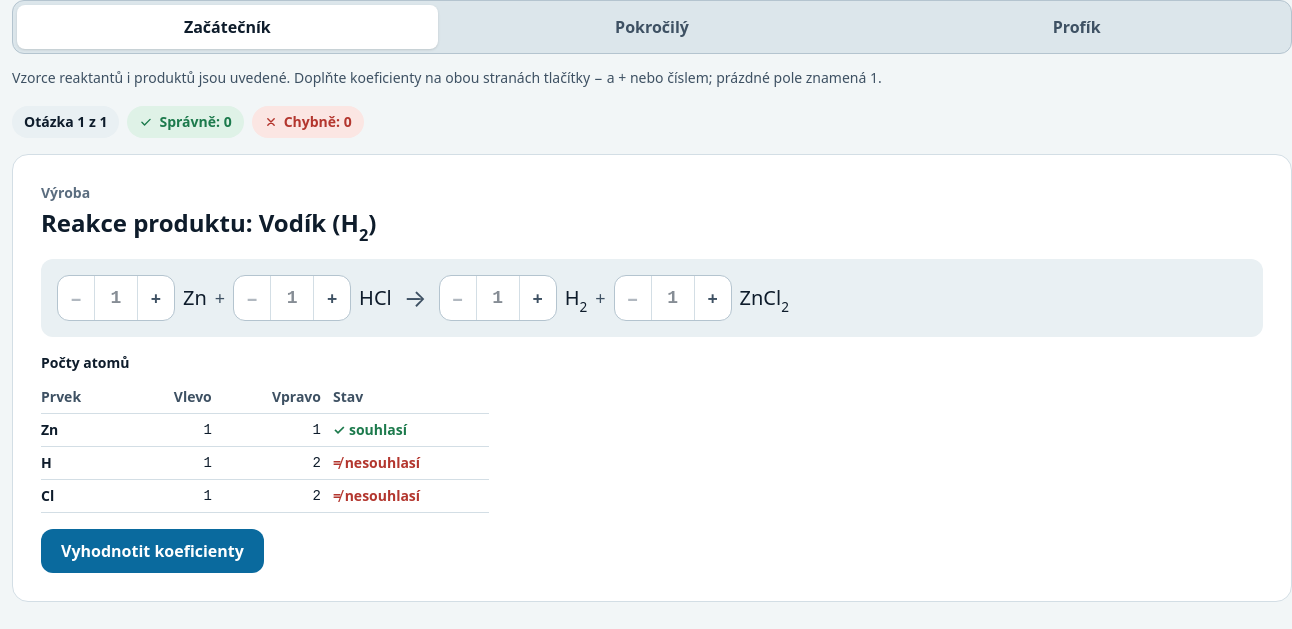
Test: reaction equation practice › shows atom counts after a wrong beginner answer and saves the retry
Click the button "Vyhodnotit koeficienty". click: (152, 551)
box: [41,529,264,573]
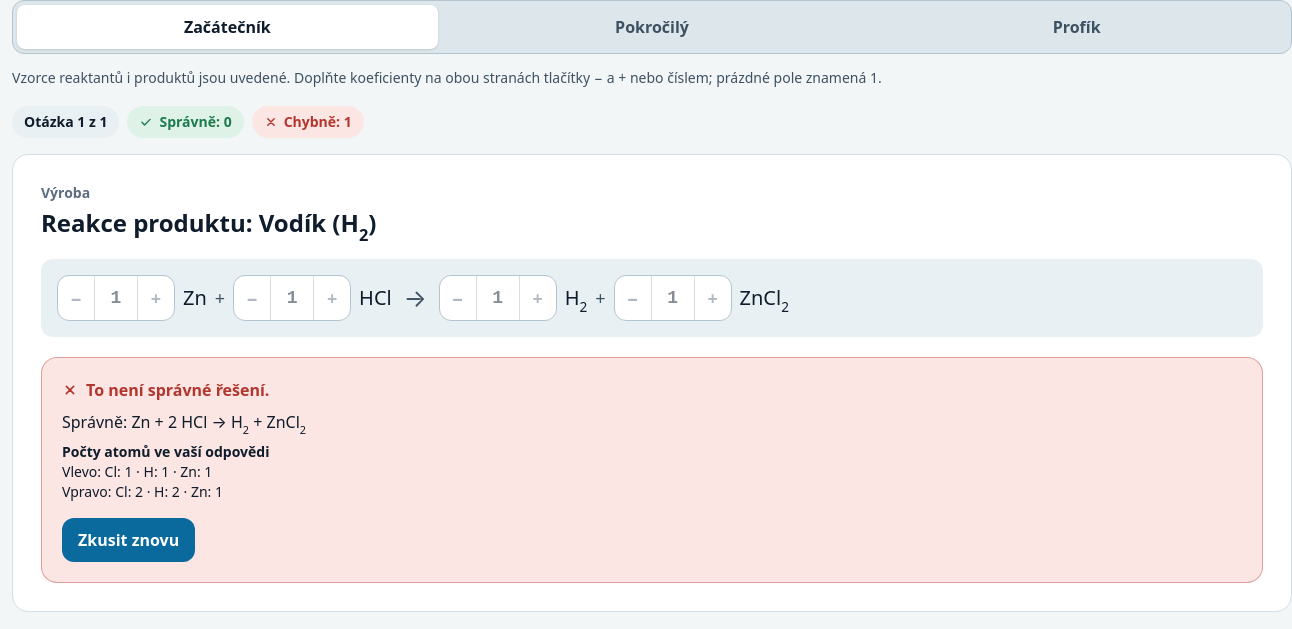
Now the text "To není správné řešení." is shown, box [86,378,269,402]
Now the text "Počty atomů ve vaší odpovědi" is shown, box [62,442,270,461]
Now the text "Vlevo: Cl: 1 · H: 1 · Zn: 1" is shown, box [62,462,212,481]
Click the button "Zkusit znovu". click: (129, 540)
box: [62,518,195,562]
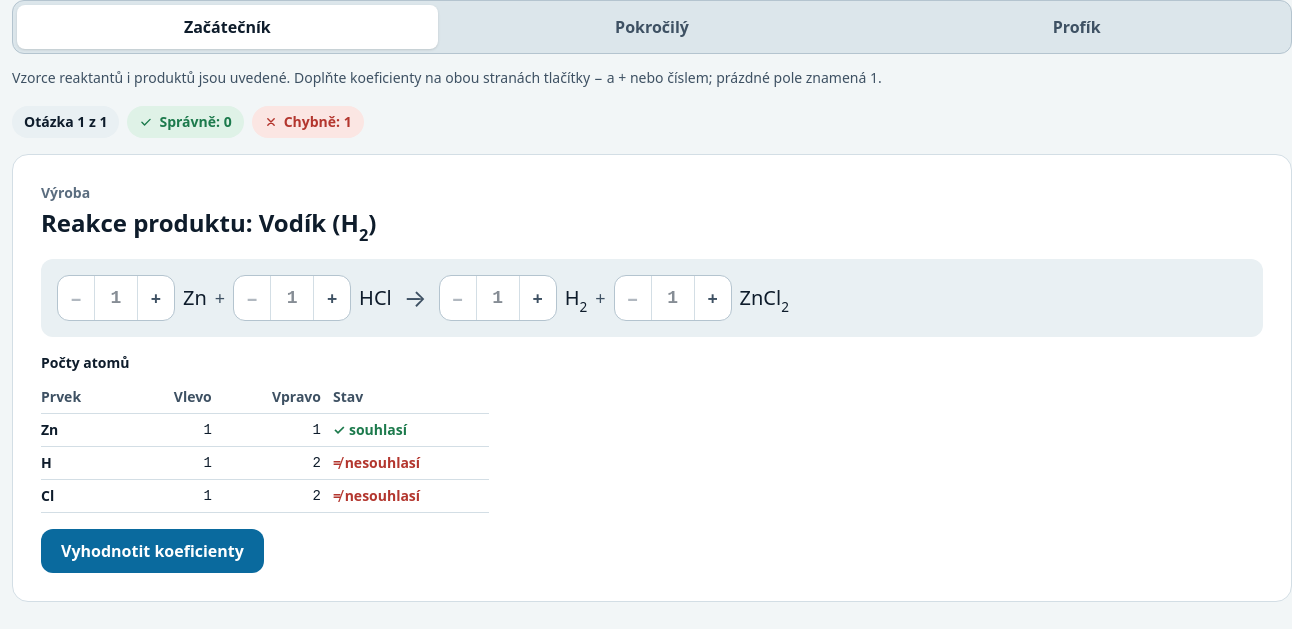
Type "2" into the field named "Koeficient reaktant HCl". click: (292, 298)
box: [270,276,314,320]
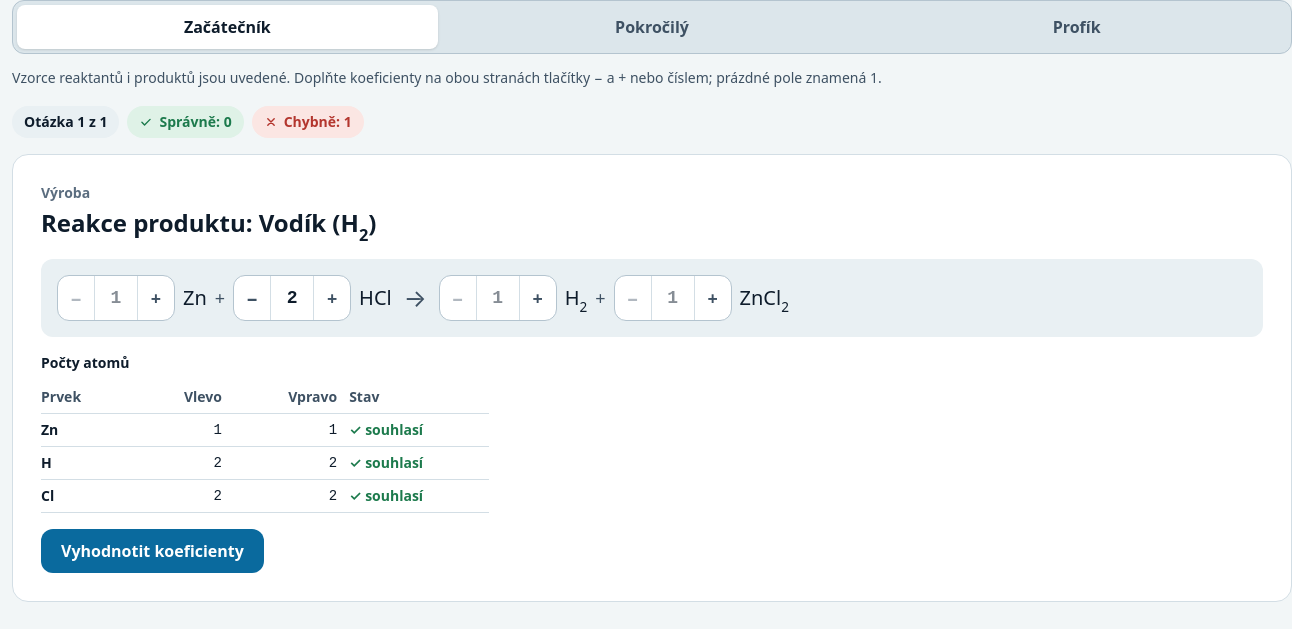
Click the button "Vyhodnotit koeficienty". click: (152, 551)
box: [41,529,264,573]
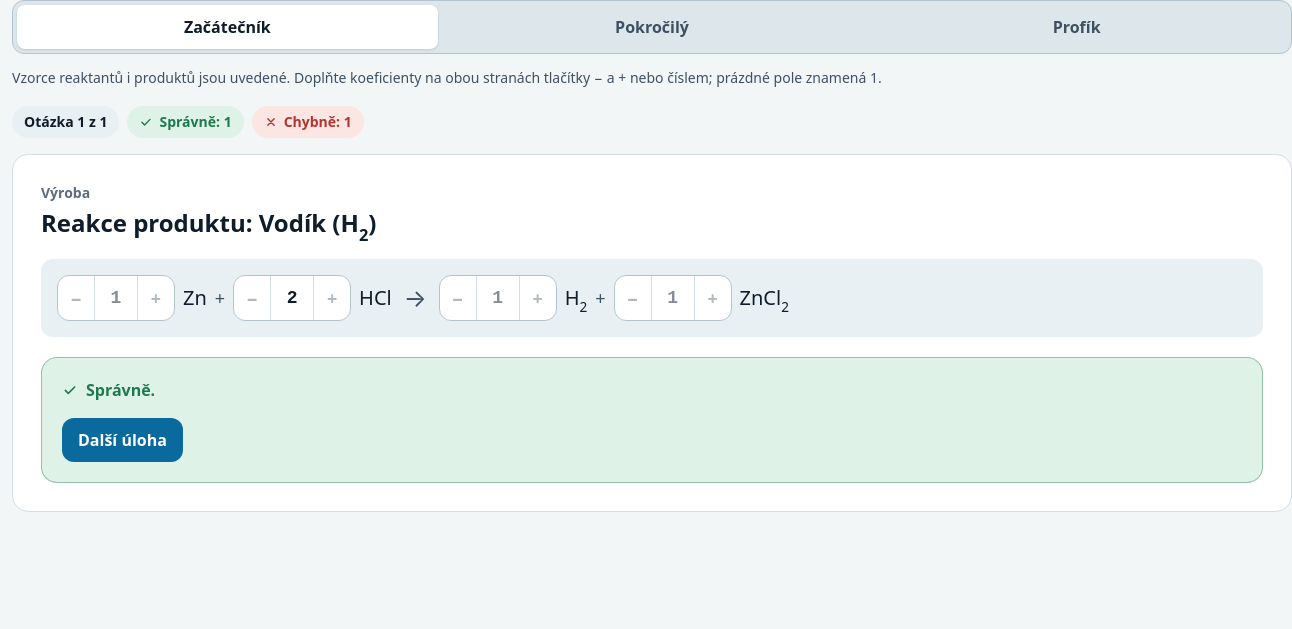
Now the text "Správně." is shown, box [86,378,155,402]
